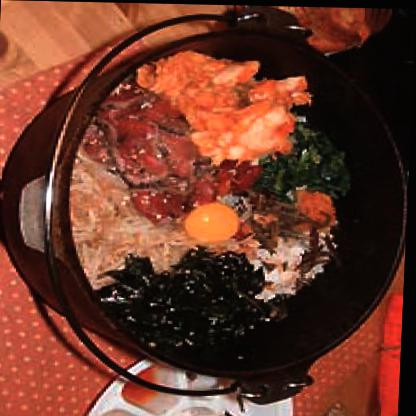bibimbap: (60, 37, 383, 363)
